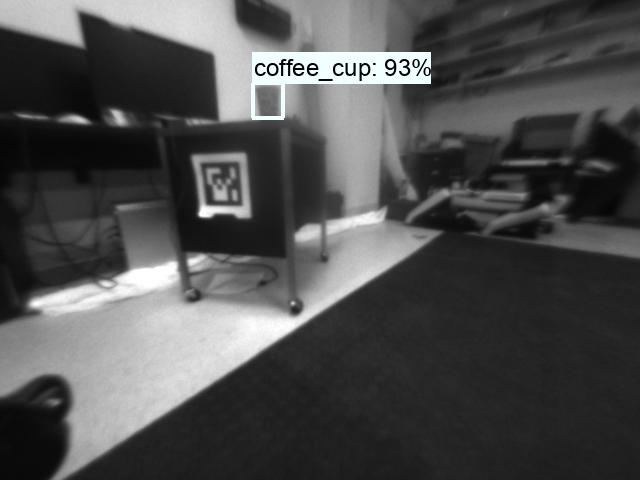coffee_cup: (253, 84, 280, 117)
